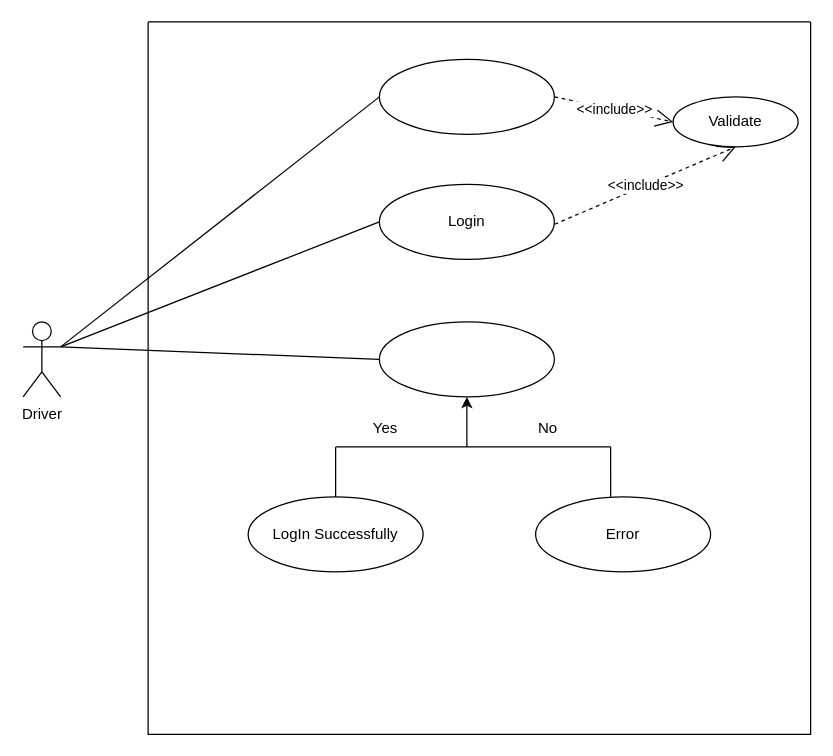
Some shapes in this 833 by 756 pixel diagram are drawn without their labels. Here are the shapes that lost their labels. From the top down, the centre of each, then its label:
(466,96): Registration
(466,359): DashBoard
